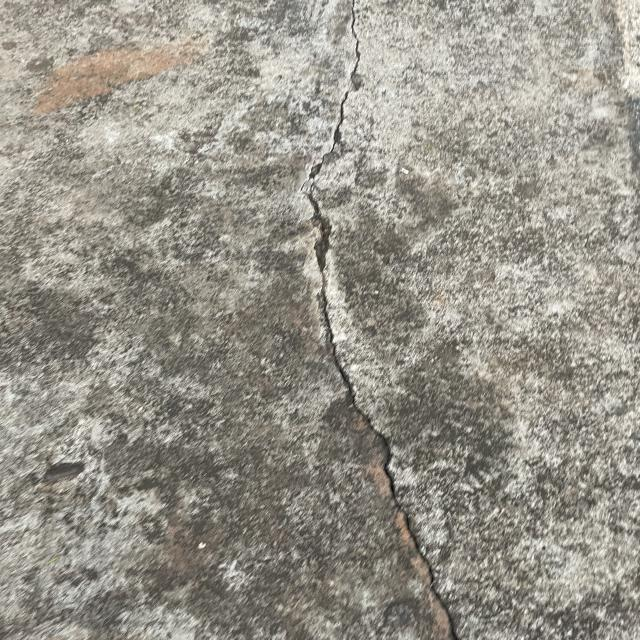D20: (262, 11, 470, 640)
